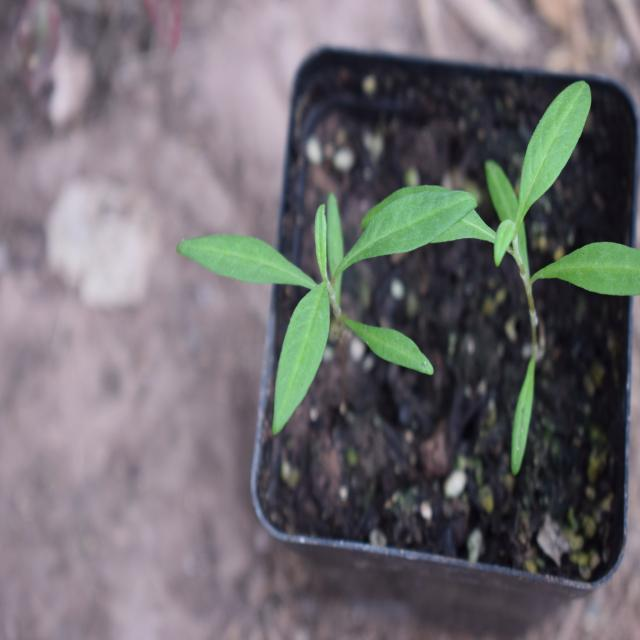white_smart_weed: (189, 158, 477, 448), (416, 82, 639, 385)
